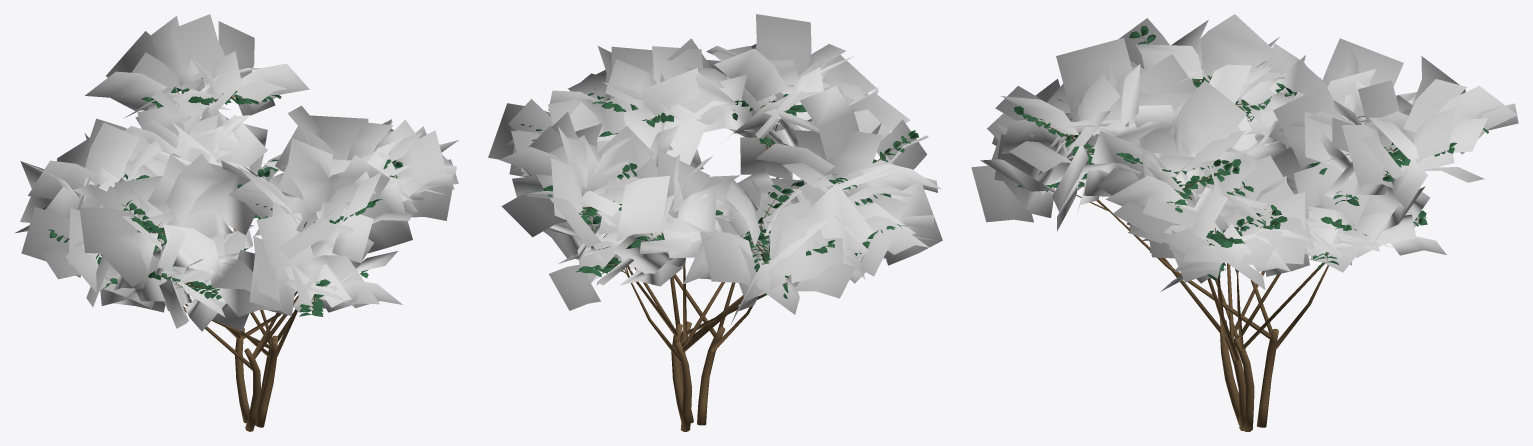
File: V7_Myrte_0_Niveau0.fbx
3 renders of one model, left to right at view 1: azimuth 30°, elevation 25°; view 2: azimuth 150°, elevation 25°; view 3: azimuth 270°, elevation 25°, orthographic. The views are drawn at different scales.
Visible parts, largest first — view 1: V7_Myrte_0; view 2: V7_Myrte_0; view 3: V7_Myrte_0.
Part boxes in pixels (x1,y1,x2,y2): V7_Myrte_0: (14, 14, 458, 431); V7_Myrte_0: (488, 14, 942, 431); V7_Myrte_0: (971, 14, 1518, 431).
Bounding box in the file's own units: 248 × 191 × 255.
